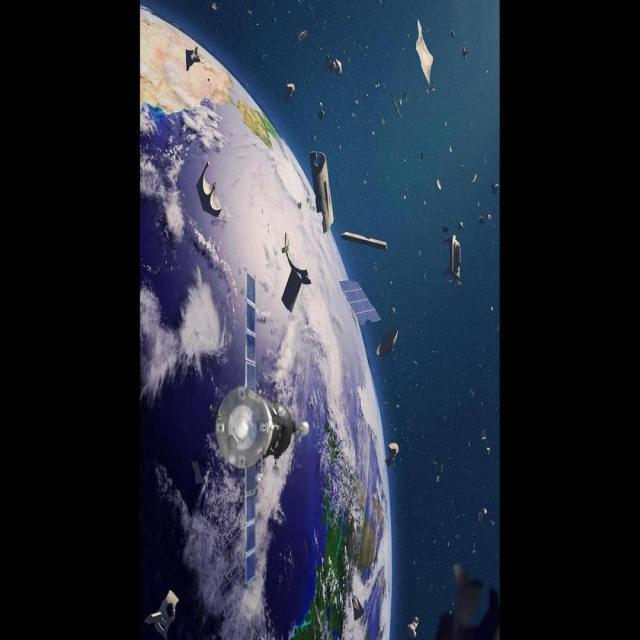large_debris: (434, 561, 500, 640), (280, 231, 311, 313), (309, 150, 336, 236), (338, 279, 382, 327), (145, 589, 181, 640), (197, 162, 223, 218), (415, 18, 435, 86), (441, 235, 463, 289), (342, 230, 388, 251), (375, 326, 400, 358), (324, 52, 344, 76), (184, 47, 202, 71), (385, 441, 400, 468), (190, 458, 204, 486), (391, 93, 404, 121), (406, 616, 421, 639), (284, 82, 296, 98), (297, 28, 309, 43), (491, 178, 500, 196), (435, 176, 443, 194), (317, 107, 327, 120)
medium_debris: (215, 273, 311, 586)
